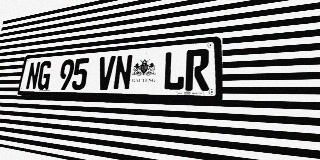5: (71, 58, 89, 90)
9: (58, 59, 75, 90)
G: (36, 61, 53, 90)
L: (162, 50, 186, 91)
N: (113, 54, 133, 90), (25, 61, 41, 90)
R: (185, 48, 210, 91)
V: (96, 56, 116, 90)
